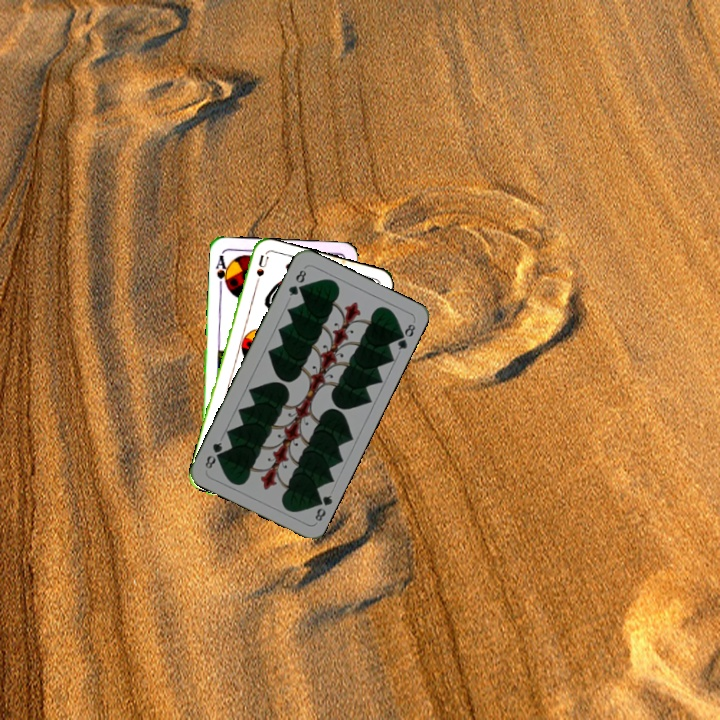G8: (284, 266, 309, 299), (310, 491, 335, 524)
SA: (212, 251, 232, 291)
SU: (250, 251, 270, 292)
